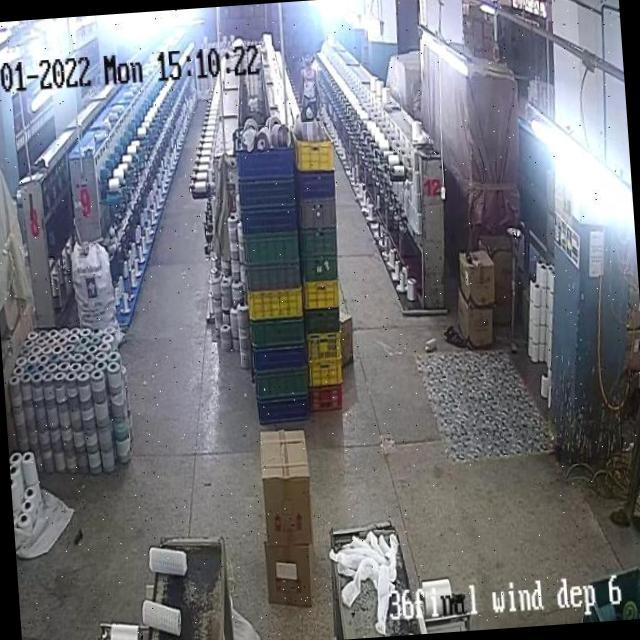person: (606, 335, 640, 534), (302, 51, 318, 110)
